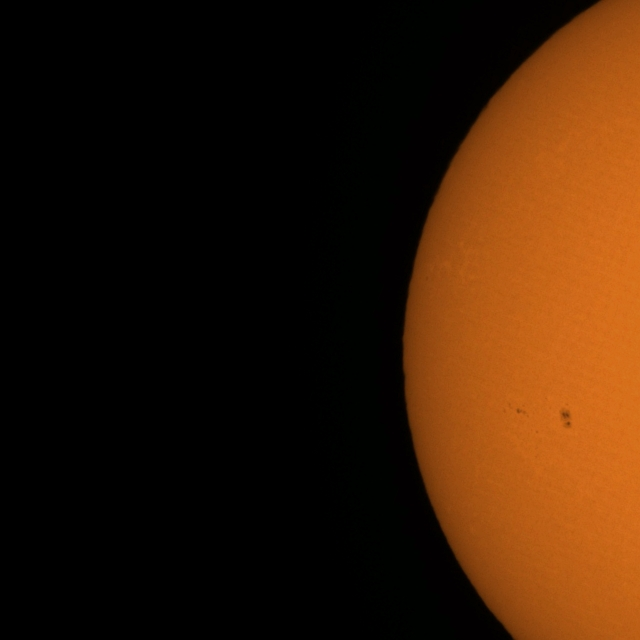sunspot: (502, 402, 530, 418), (558, 404, 574, 430), (515, 404, 529, 418), (534, 430, 540, 434)
